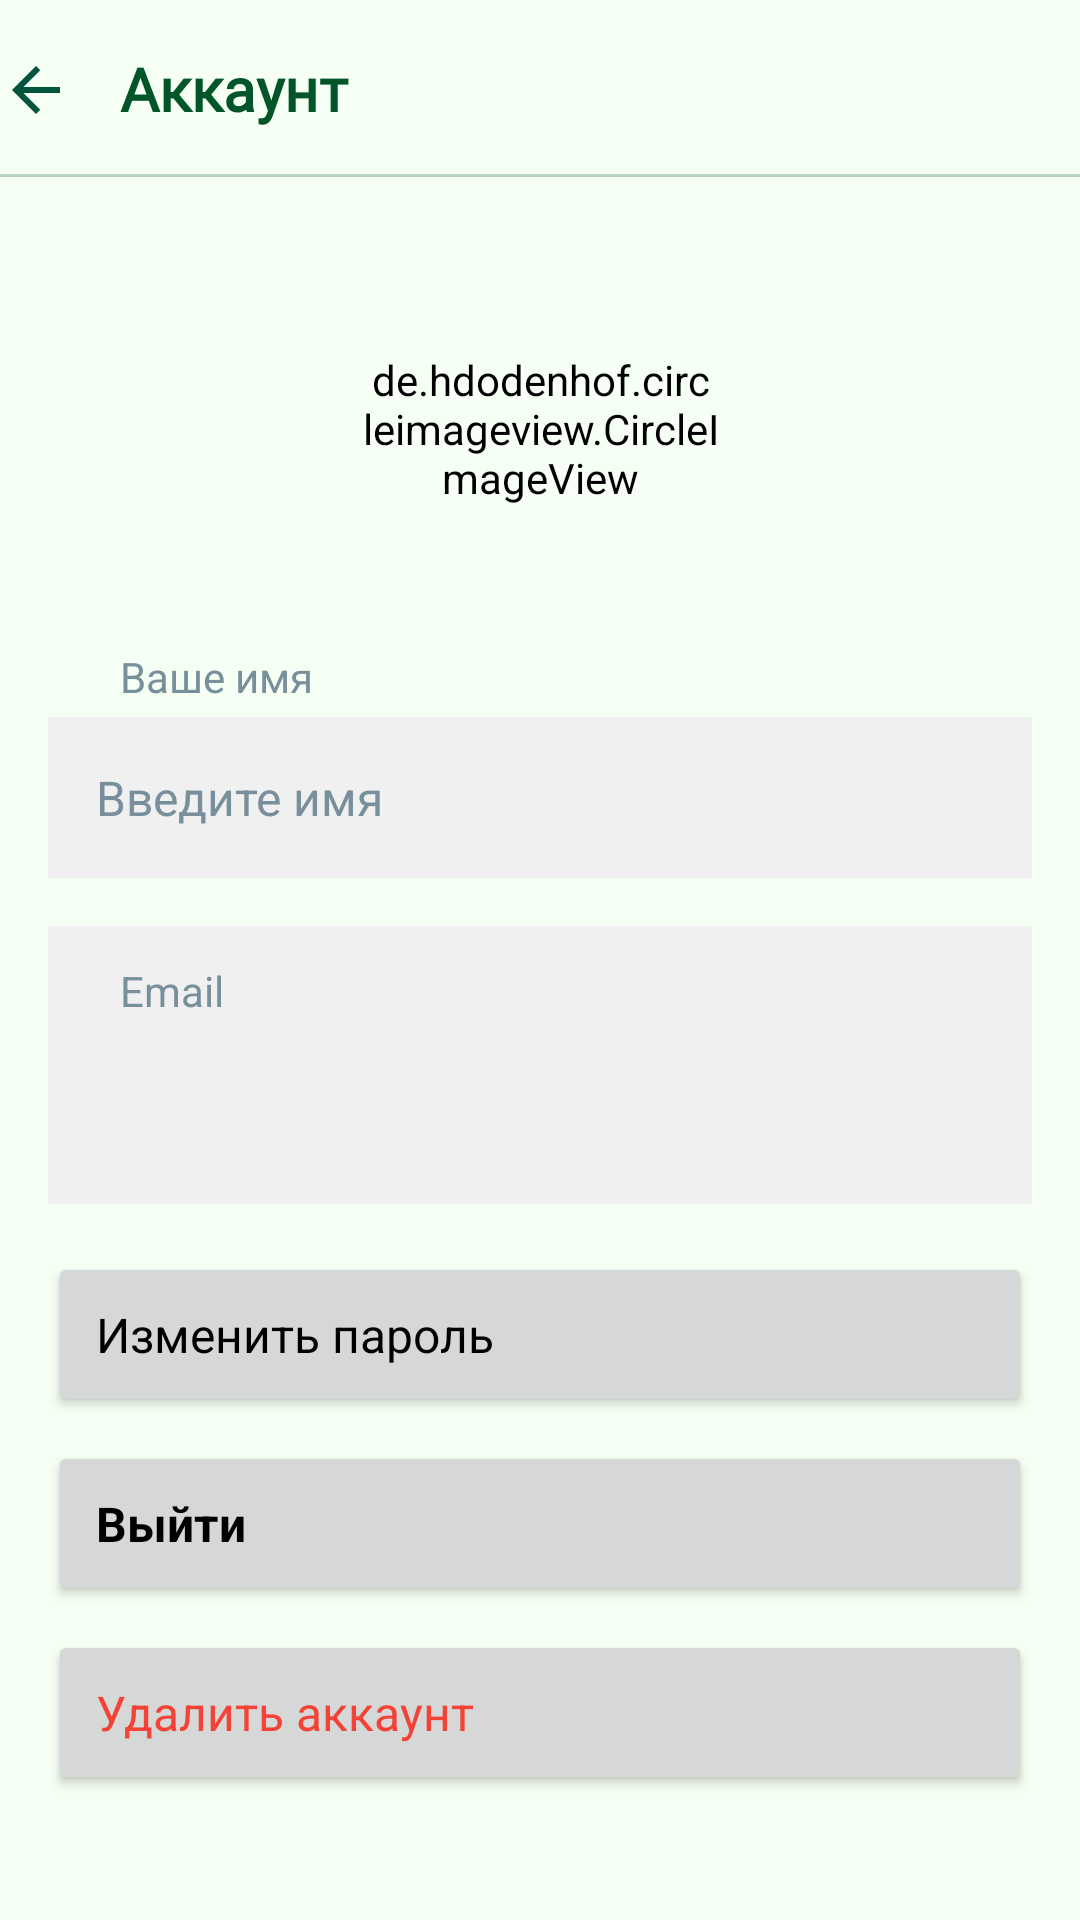

Icon bounding boxes for this 1080px×1920px phone screenshot, format (x1=x1, y1=y1, x2=x2, y2=y2):
back: (x1=12, y1=66, x2=60, y2=114)
